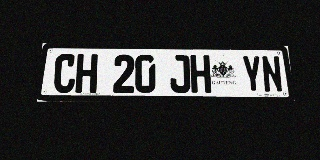0: (135, 55, 155, 93)
2: (113, 54, 135, 93)
C: (53, 54, 77, 93)
H: (75, 54, 98, 93), (190, 55, 211, 93)
J: (170, 55, 191, 93)
N: (261, 56, 284, 93)
Y: (241, 55, 264, 93)
